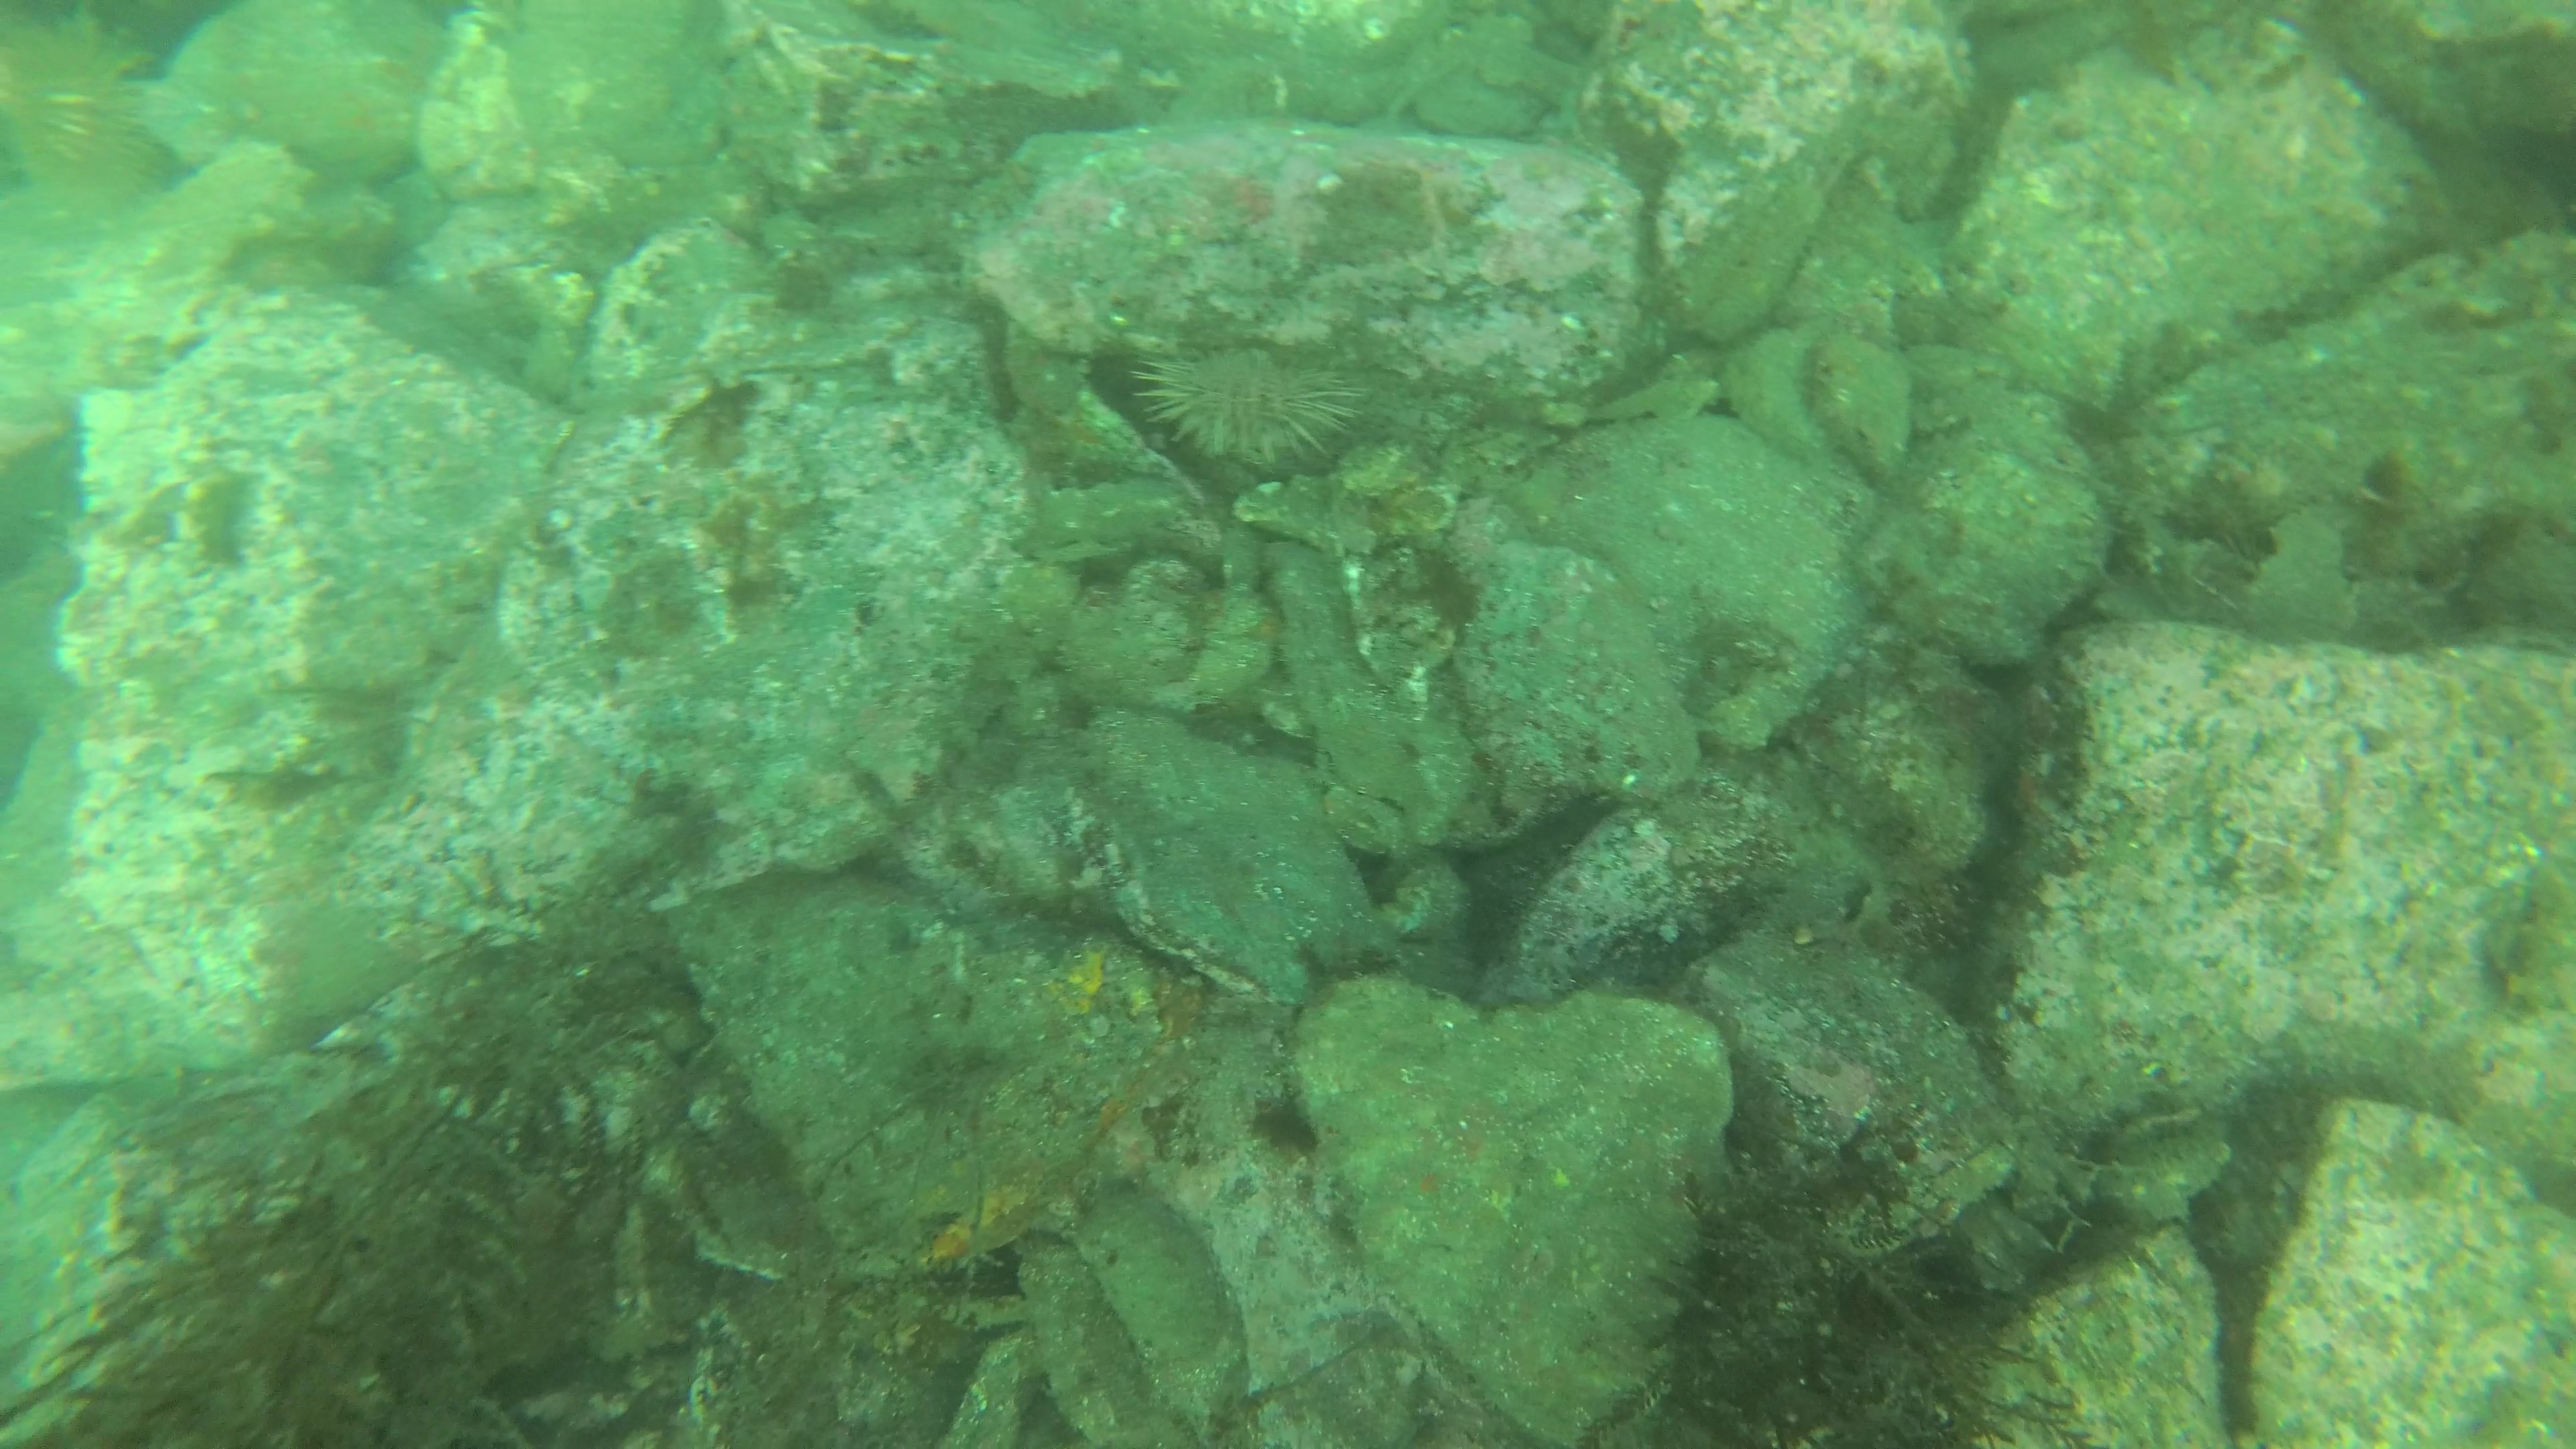echinus: (0, 0, 172, 205), (1143, 310, 1359, 462)
